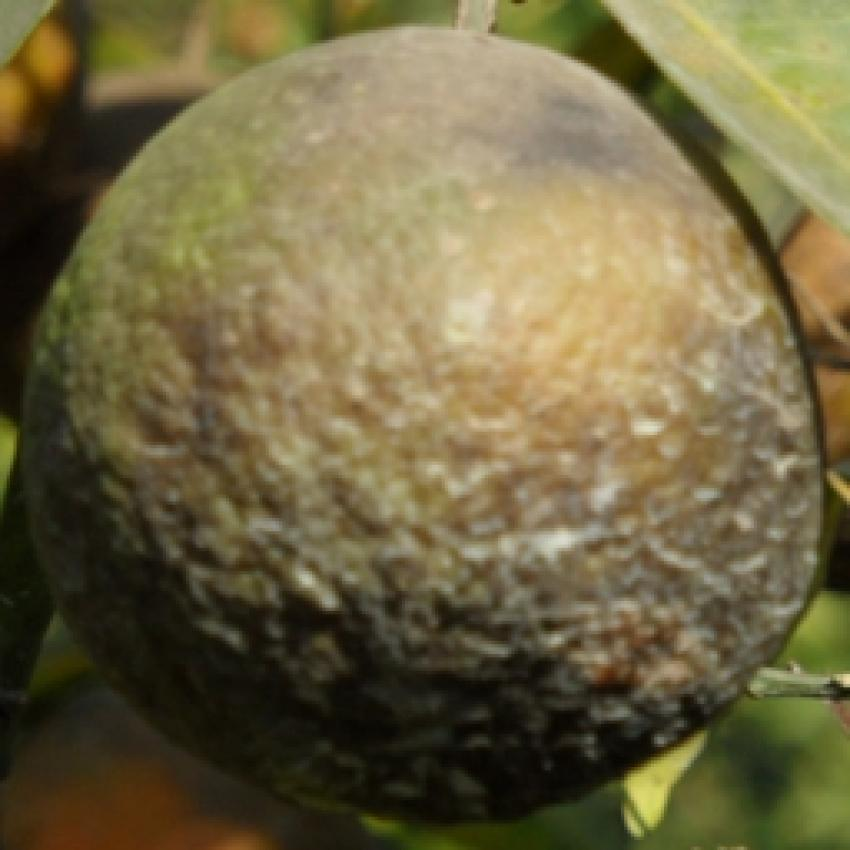Mal estado: (21, 30, 830, 814)
